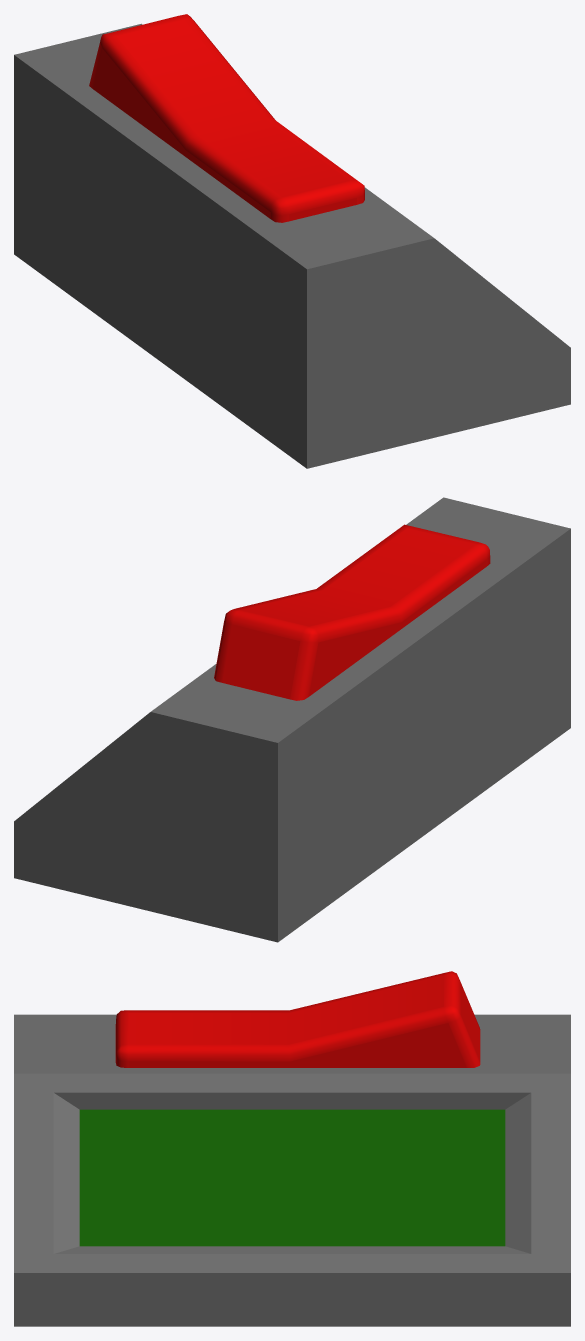
Rendered from timer.fbx.
3 renders of one model, top to bottom at view 1: azimuth 30°, elevation 25°; view 2: azimuth 150°, elevation 25°; view 3: azimuth 270°, elevation 25°, orthographic. The views are drawn at different scales.
Parts seen in each view (by area): view 1: Case, Куб; view 2: Case, Куб; view 3: Case, Куб.
Boxes of the visible parts, left/top/right/bottom form: Case: left=14, top=23, right=570, bottom=468; Куб: left=89, top=14, right=364, bottom=222; Case: left=14, top=497, right=570, bottom=942; Куб: left=214, top=524, right=490, bottom=700; Case: left=14, top=1014, right=570, bottom=1326; Куб: left=115, top=971, right=480, bottom=1067.
Size of the model in its own units: 277 by 260 by 532.
